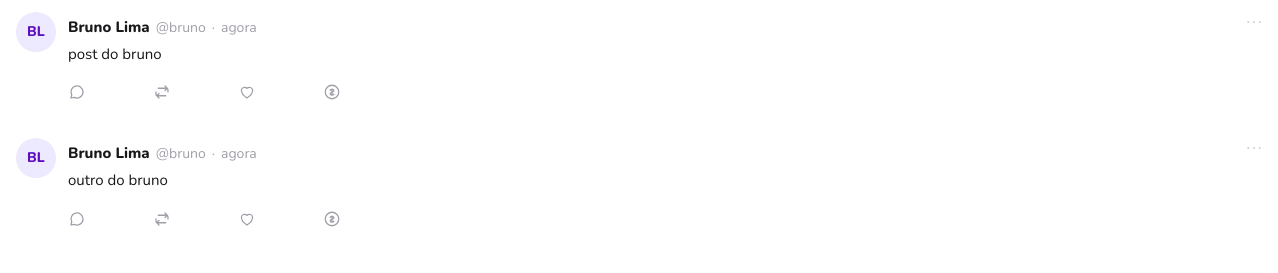
Test: <Feed> › recompensar: transfere 1 token e mostra o erro de saldo com atalho para as missões
Expected: the text "post do bruno" is shown, [68,44,162,64]
Click the button named "Recompensar com 1 NWC" below "post do bruno".
click(337, 92)  # box [315,70,359,114]
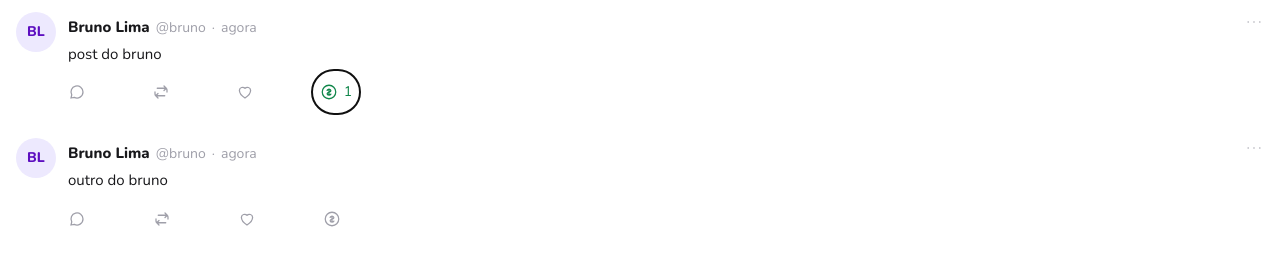
Result: the button named "Você recompensou com 1 NWC" reads "1" at [312,70,360,114]
Click the button named "Recompensar com 1 NWC".
click(337, 219)  # box [315,197,359,241]
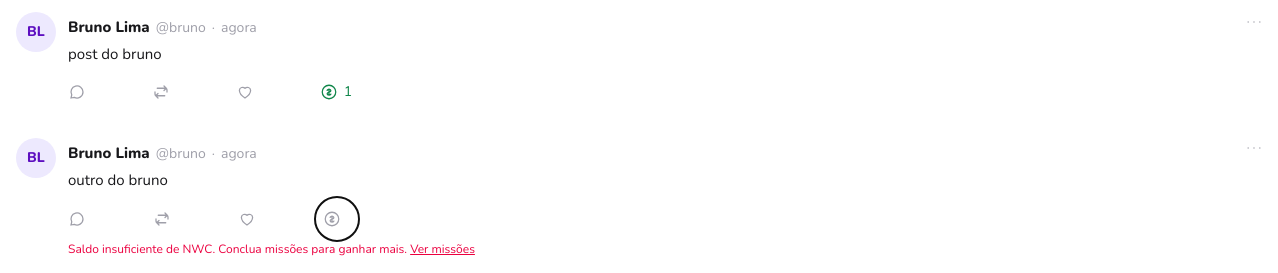
Result: the message shows "Saldo insuficiente de NWC" at [68,241,407,257]
